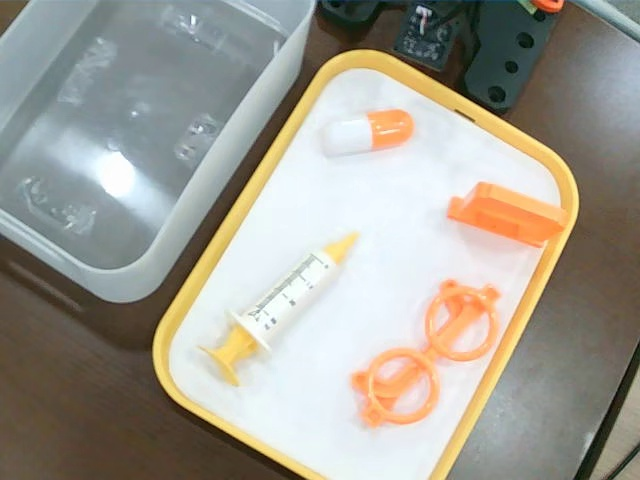pill: (320, 109, 417, 158)
syringe: (195, 230, 359, 390)
